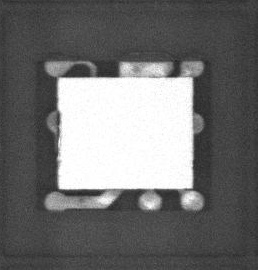DIE_BROKEN: (57, 79, 64, 175)
